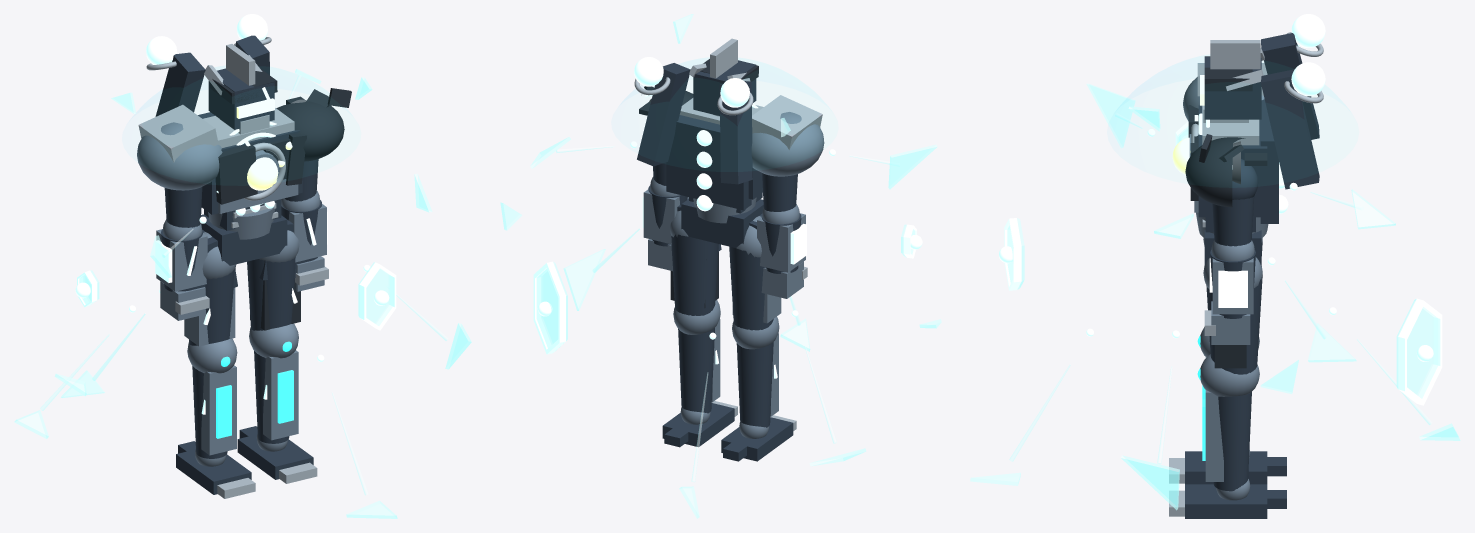
File: vanguard-shattered.glb
3 renders of one model, left to right at view 1: azimuth 30°, elevation 25°; view 2: azimuth 150°, elevation 25°; view 3: azimuth 270°, elevation 25°, orthographic. The views are drawn at different scales.
Parts seen in each view (by area): view 1: pauldron_l, thigh_1, pauldron_ruin_r, pauldron_crest_l, pelvis, shin_guard_1, shin_guard_-1, pylon_l, helm, chest_plate_left, thigh_-1, foot_1 (+38 smaller); view 2: back_plate, thigh_1, pylon_r, pauldron_l, shin_-1, shin_1, thigh_-1, pylon_l, pelvis, pauldron_crest_l, reforming_frame_3, helm (+23 smaller); view 3: pylon_r, shin_1, pauldron_ruin_r, foot_1, reforming_pane_3, reforming_frame_3, helm, upper_arm_1, pylon_l, crest_fin, knee_1, shin_guard_1 (+20 smaller).
Boxes of the visible parts, x1,y1,x2,y2 form: pauldron_l: (137,122,222,190); thigh_1: (247,257,295,330); pauldron_ruin_r: (276,101,344,161); pauldron_crest_l: (138,104,218,162); pelvis: (201,214,287,265); shin_guard_1: (263,350,298,440); shin_guard_-1: (201,365,236,455); pylon_l: (155,52,205,116); helm: (208,68,274,129); chest_plate_left: (215,144,257,204); thigh_-1: (189,266,235,345); foot_1: (237,434,313,479); back_plate: (666,115,751,210); thigh_1: (671,234,718,315); pylon_r: (637,63,690,166); pauldron_l: (751,112,824,176); shin_-1: (736,342,773,427); shin_1: (678,328,714,413); thigh_-1: (729,246,773,330); pylon_l: (719,81,752,184); pelvis: (681,199,763,247); pauldron_crest_l: (752,95,822,149); reforming_frame_3: (533,261,565,354); helm: (693,60,756,115); pylon_r: (1261,69,1319,189); shin_1: (1213,392,1251,491); pauldron_ruin_r: (1185,137,1245,207); foot_1: (1185,484,1267,518); reforming_pane_3: (1396,299,1437,398); reforming_frame_3: (1398,298,1442,405); helm: (1204,57,1261,119); upper_arm_1: (1212,196,1254,246); pylon_l: (1261,33,1319,139); crest_fin: (1210,40,1260,69); knee_1: (1200,354,1259,396); shin_guard_1: (1205,390,1223,481).
Bounding box in the file's own units: 4.53 × 4.37 × 4.29.
